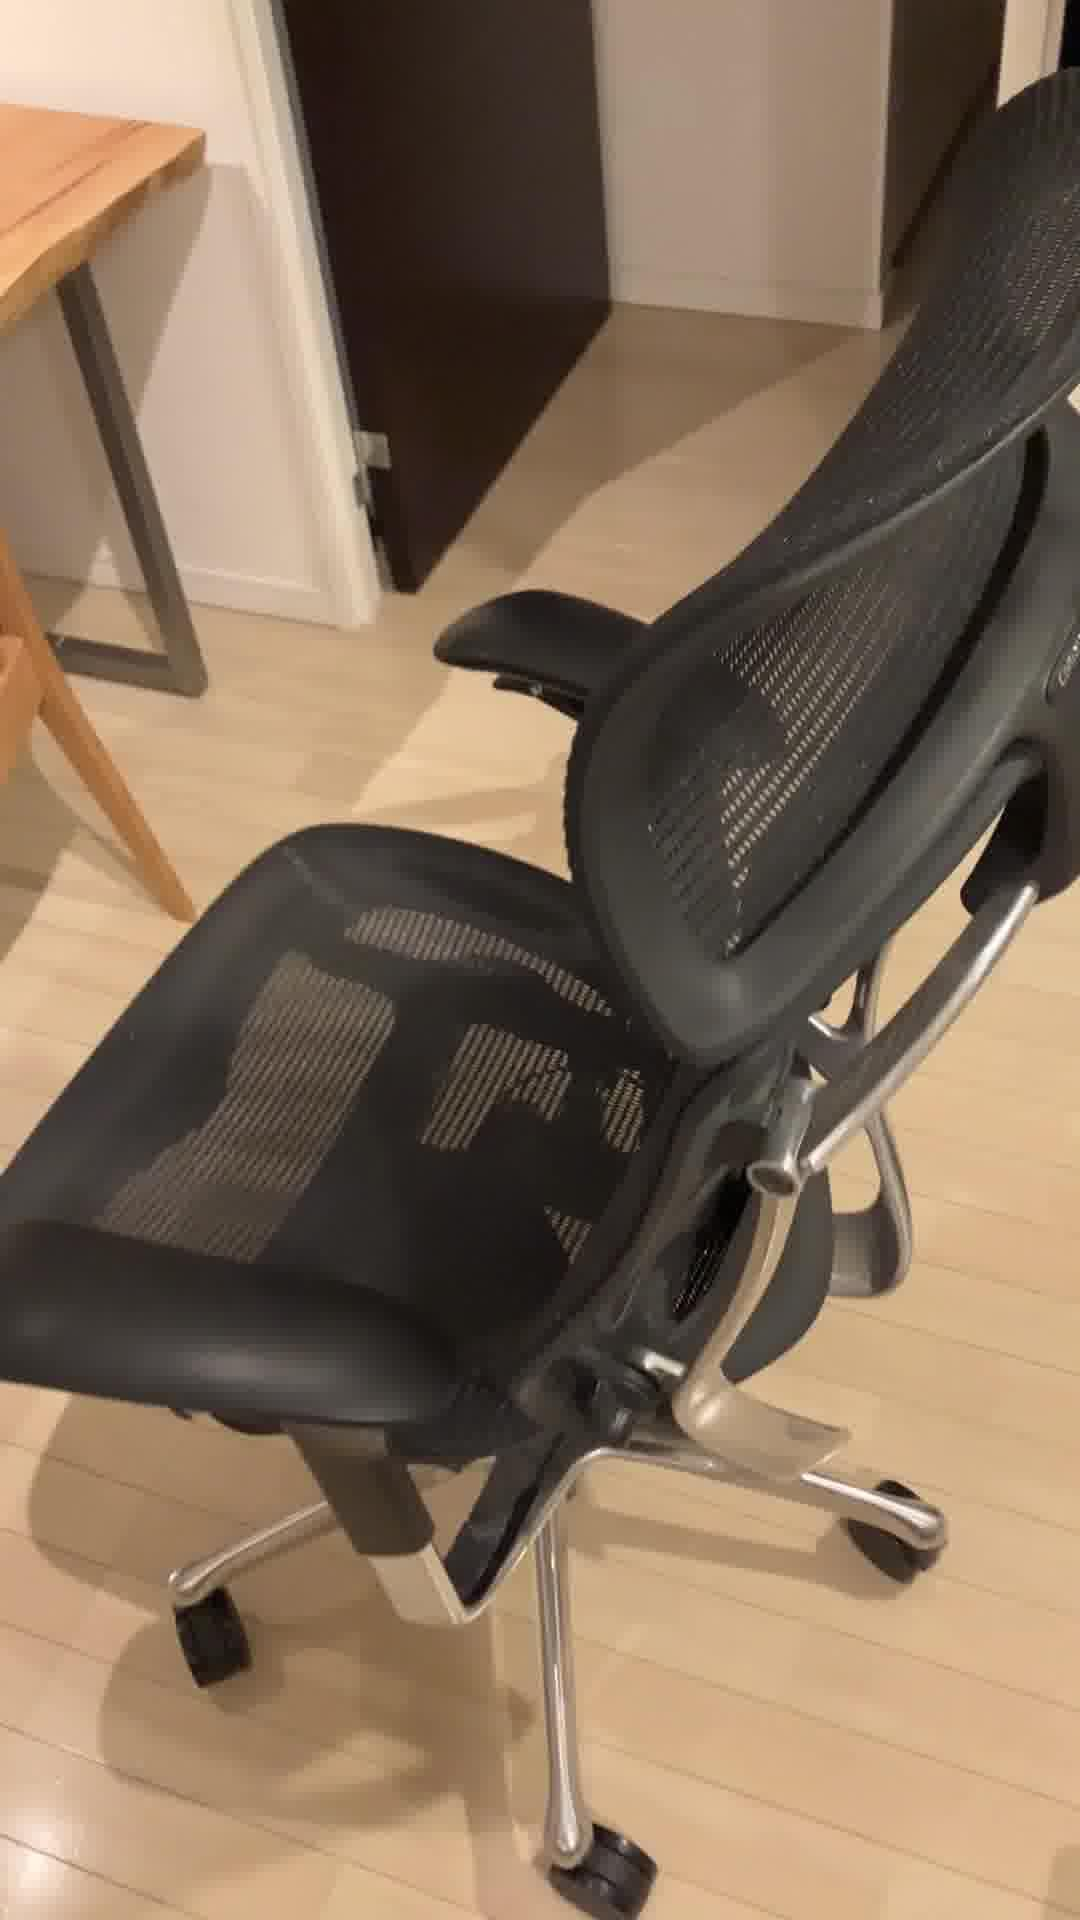okamura-contessa: (0, 58, 1080, 1920)
